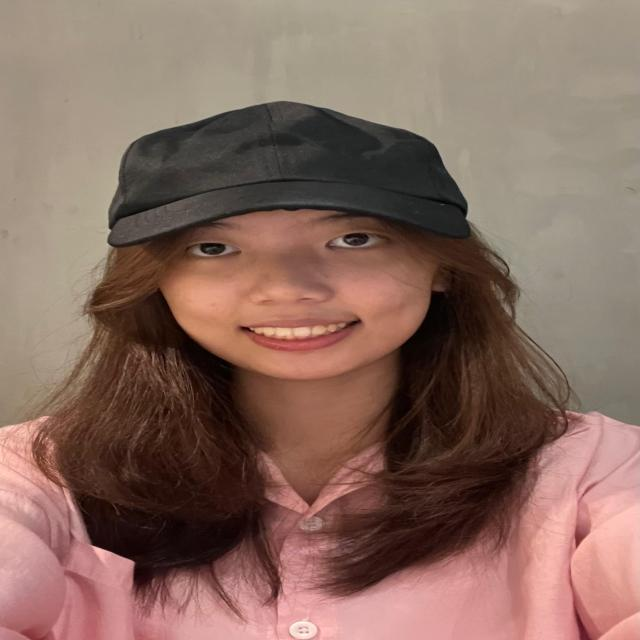3_gorra: (106, 99, 470, 248)
